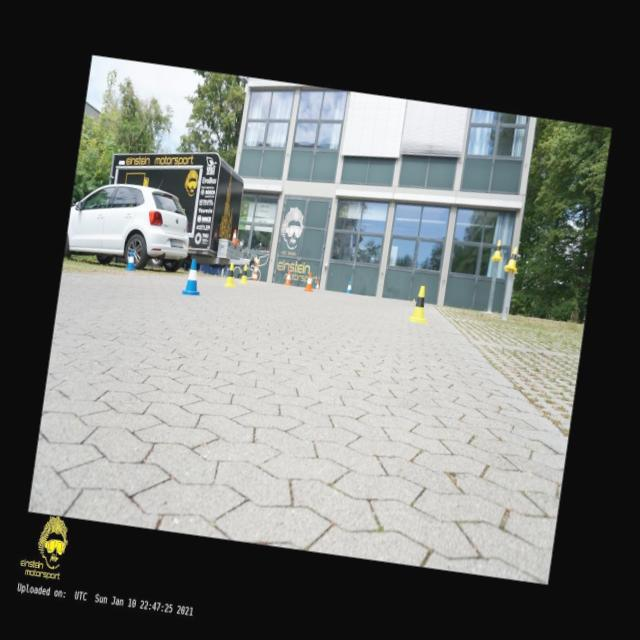blue_cone: (182, 258, 204, 296), (125, 250, 138, 271), (345, 280, 354, 294)
large_orange_cone: (252, 264, 260, 281)
orange_cone: (304, 272, 314, 292), (230, 230, 240, 244), (284, 270, 293, 285)
yellow_cone: (408, 284, 433, 324), (504, 246, 520, 273), (223, 262, 240, 287), (490, 239, 504, 261), (238, 264, 250, 284)
